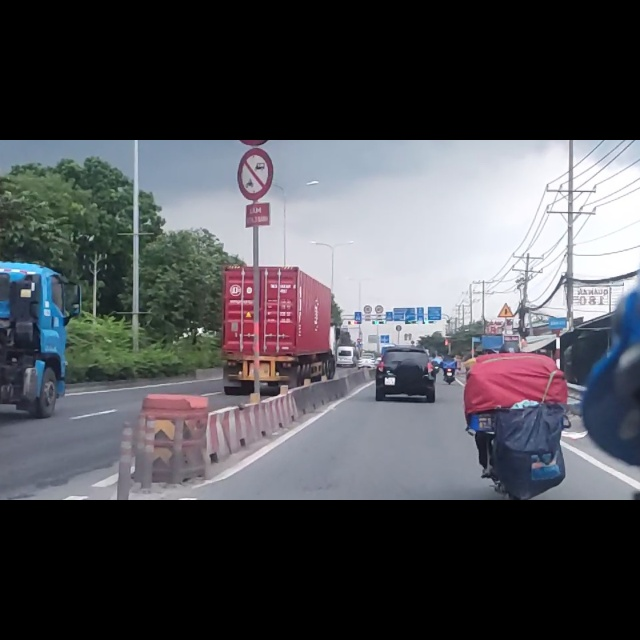bien_chi_dan: (237, 14, 274, 105), (498, 289, 515, 315)
